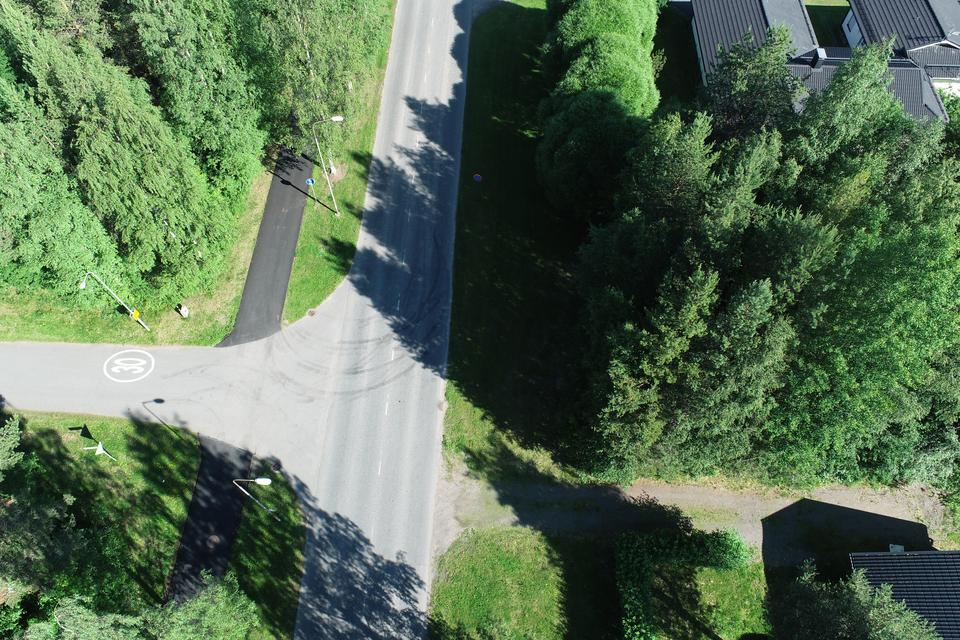intersection: (164, 309, 469, 508)
